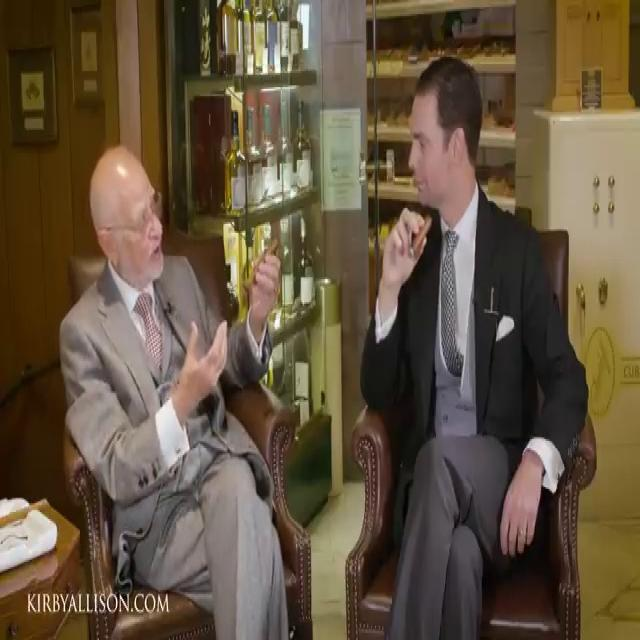Smooking: (406, 208, 435, 270)
